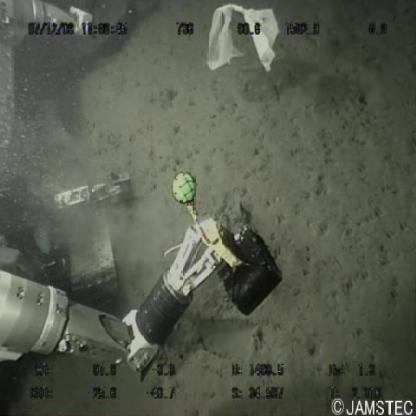Rov: (1, 1, 286, 386)
Rác: (203, 1, 283, 80)
